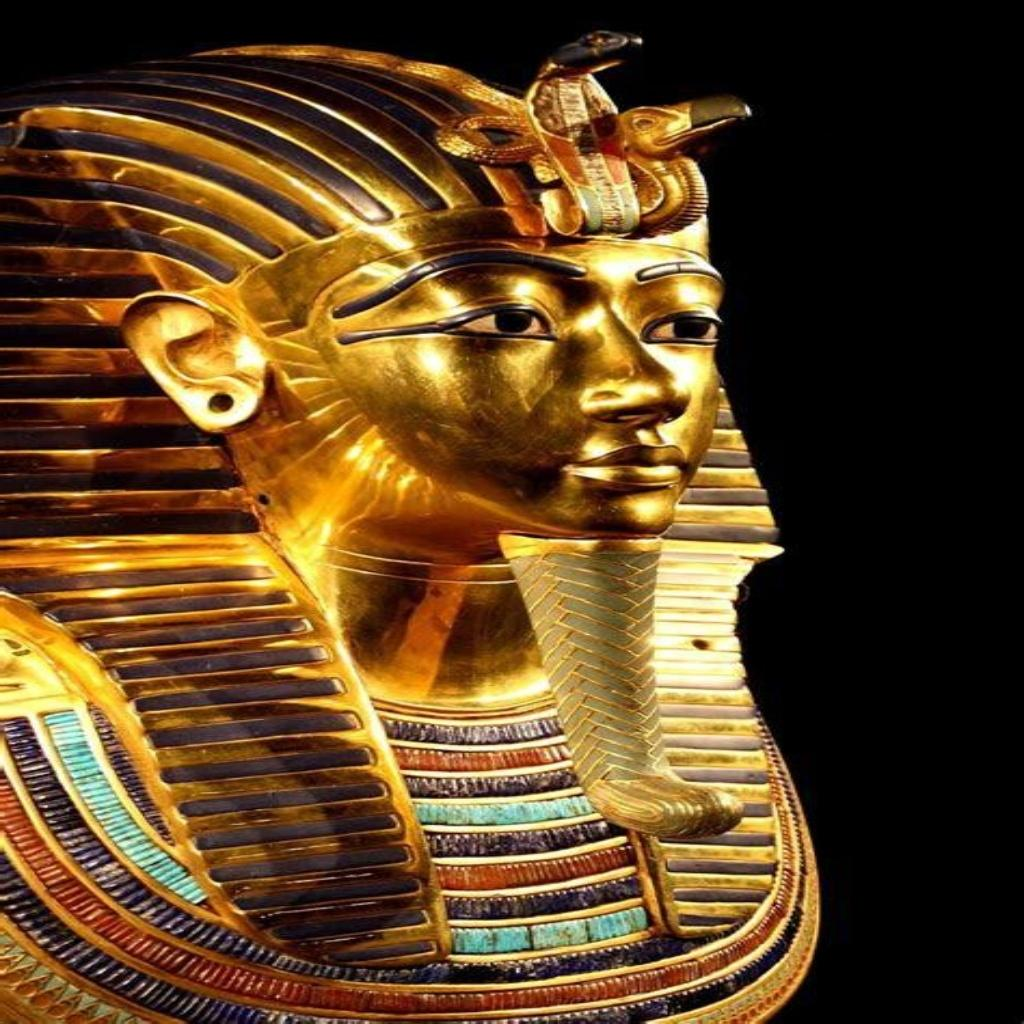Mask of Tutankhamun: (4, 29, 823, 1020)
